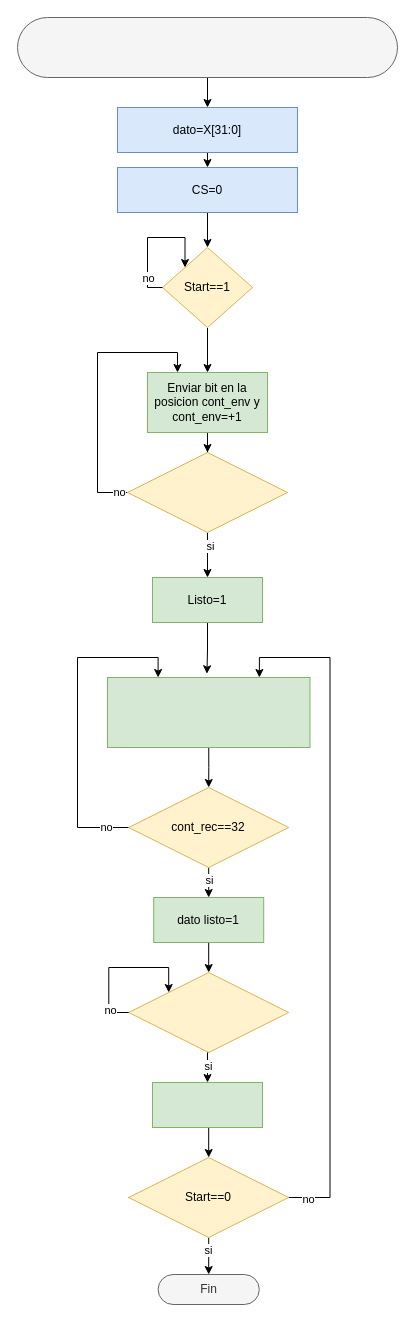
The diagram is 415 pixels wide and 1322 high, and some of its shapes have lost their labels. The centre of each missing label's shape, as x and y in pixels:
cont_env==32: pixel 207 492
cont_rec=0: pixel 207 1105
guarda el bit que esta en MISO en la posicion cont_rec y cont_rec=+1: pixel 208 712
Inicio: Start=0; CS=1; cont_env=0; Next=0; cont_recibido=0; dato_listo=0: pixel 207 47
Next==1: pixel 208 1012
